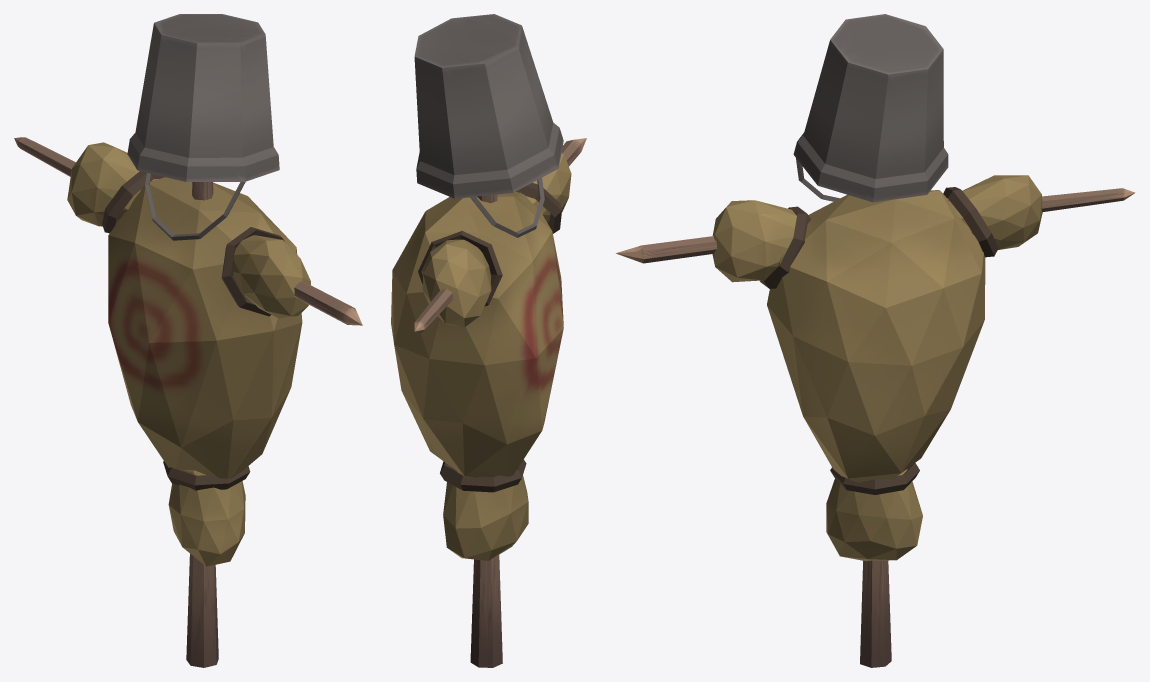
Rendered from targetdummy.fbx.
The picture shows the model from 3 angles, left to right: view 1: azimuth 30°, elevation 25°; view 2: azimuth 150°, elevation 25°; view 3: azimuth 270°, elevation 25°; orthographic projection.
Visible parts, largest first — view 1: TargetDummy; view 2: TargetDummy; view 3: TargetDummy.
Part boxes in pixels (bbox=[...]): TargetDummy: bbox=[14, 14, 362, 667]; TargetDummy: bbox=[391, 14, 586, 667]; TargetDummy: bbox=[616, 14, 1135, 667].
Size of the model in its own units: 2.2 by 8.69 by 6.49.
1 material, 1 textured.
